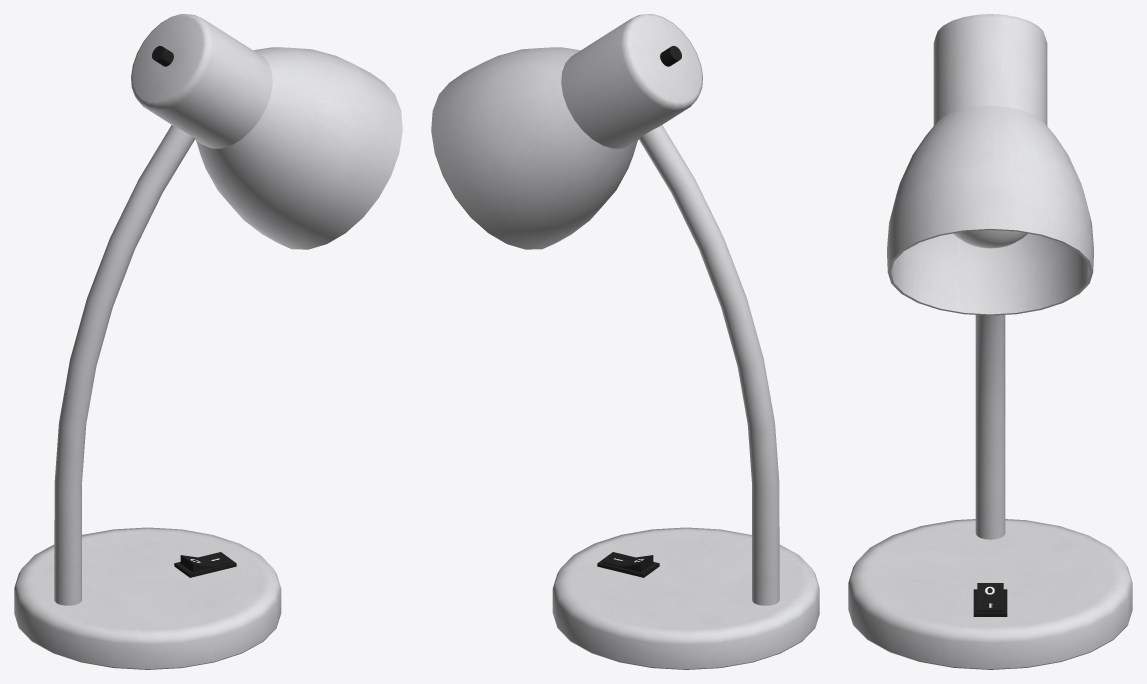
The model's file is Desk Lamp.fbx.
The picture shows the model from 3 angles, left to right: view 1: azimuth 30°, elevation 25°; view 2: azimuth 150°, elevation 25°; view 3: azimuth 270°, elevation 25°; orthographic projection. The views are drawn at different scales.
Visible parts, largest first — view 1: Lamp2; view 2: Lamp2; view 3: Lamp2.
Part boxes in pixels (x1,y1,x2,y2): Lamp2: [14, 14, 402, 669]; Lamp2: [431, 14, 819, 669]; Lamp2: [848, 14, 1132, 669].
Bounding box in the file's own units: 33.71 × 53.36 × 22.12.
